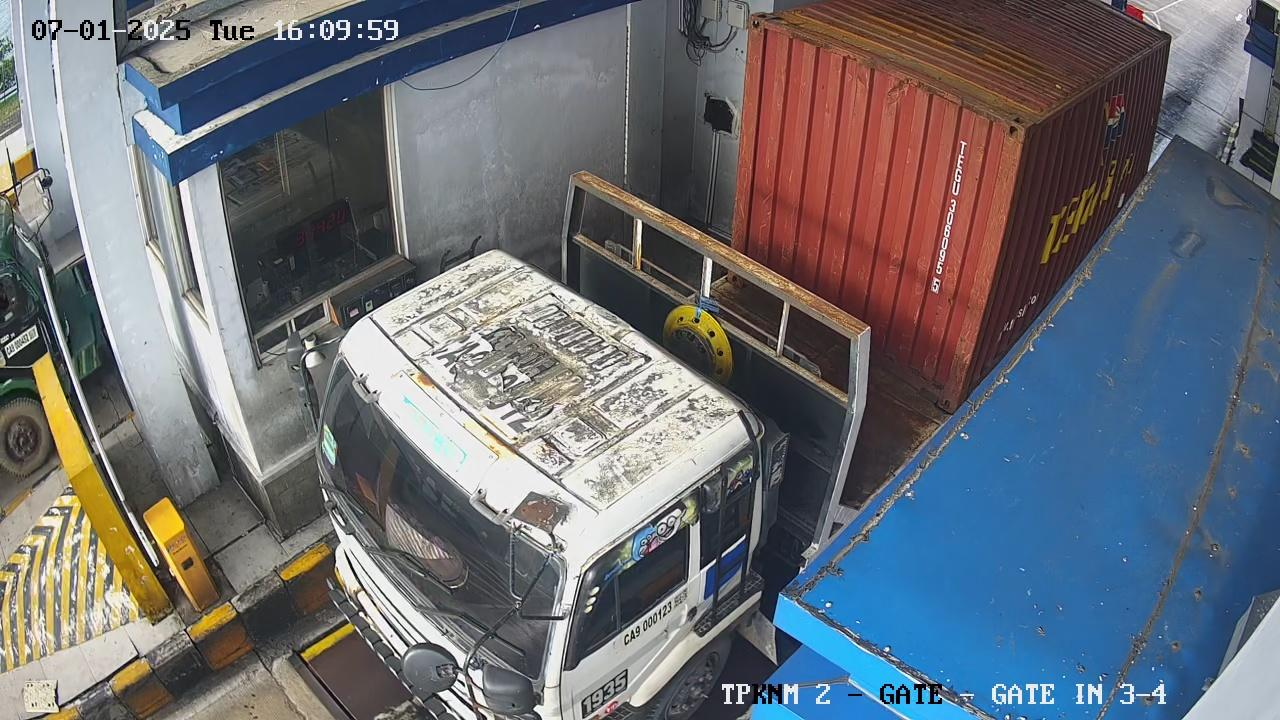Container_ID_Vertikal: (926, 140, 969, 294)
truck_id: (616, 590, 676, 653)
